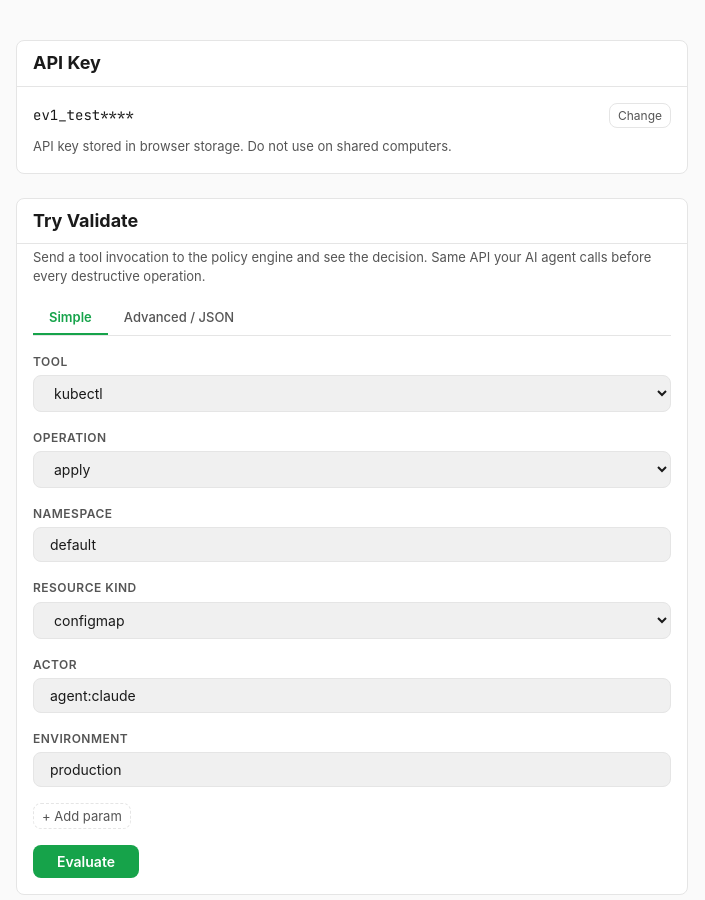
Test: Dashboard › shows error with change key action on 401
Click the button "Evaluate" at (86, 861), box [33,845,139,878]
(page scrolled)
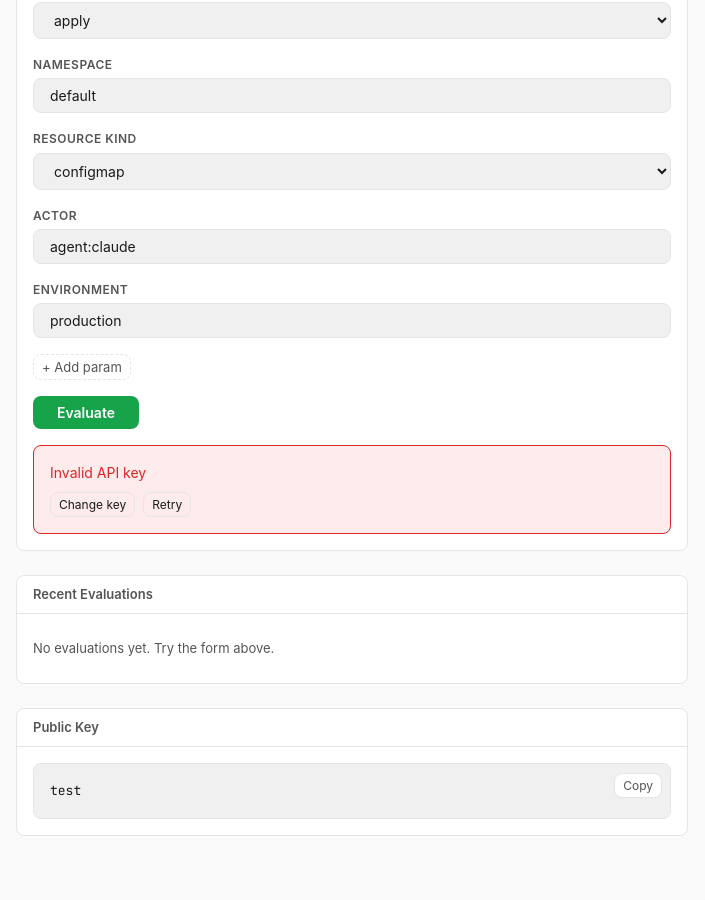
Result: the text "Invalid API key" is shown at [50,464,146,481]
Result: the button "Change key" is shown at [50,492,135,517]
